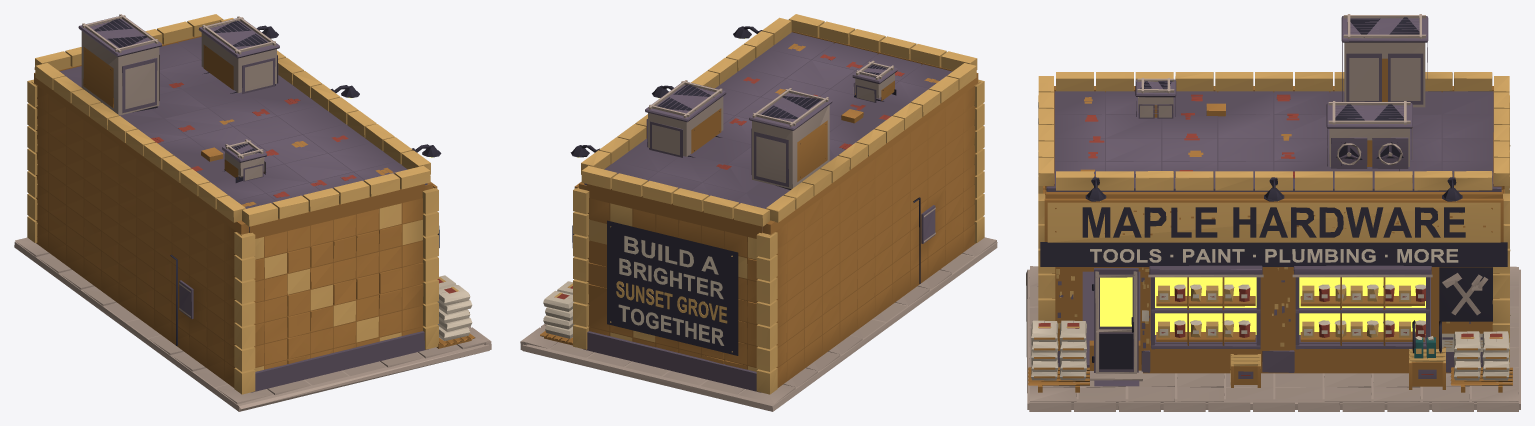
3 views of the same model, side by side, from view 1: azimuth 30°, elevation 25°; view 2: azimuth 150°, elevation 25°; view 3: azimuth 270°, elevation 25° (orthographic). The views are drawn at different scales.
Visible parts, largest first — view 1: object 4, roof; view 2: object 4, roof; view 3: object 4, roof, interior, door_front.
Part boxes in pixels (x1,y1,x2,y2): object 4: (14,25,491,411); roof: (34,14,430,231); object 4: (520,26,997,411); roof: (581,14,977,231); object 4: (1026,86,1520,411); roof: (1038,14,1509,191); interior: (1082,271,1430,367); door_front: (1092,268,1138,373).
Size of the model in its own units: 7.42 by 6.97 by 11.39.
